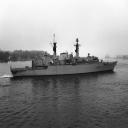Fragata: (11, 33, 119, 79)
